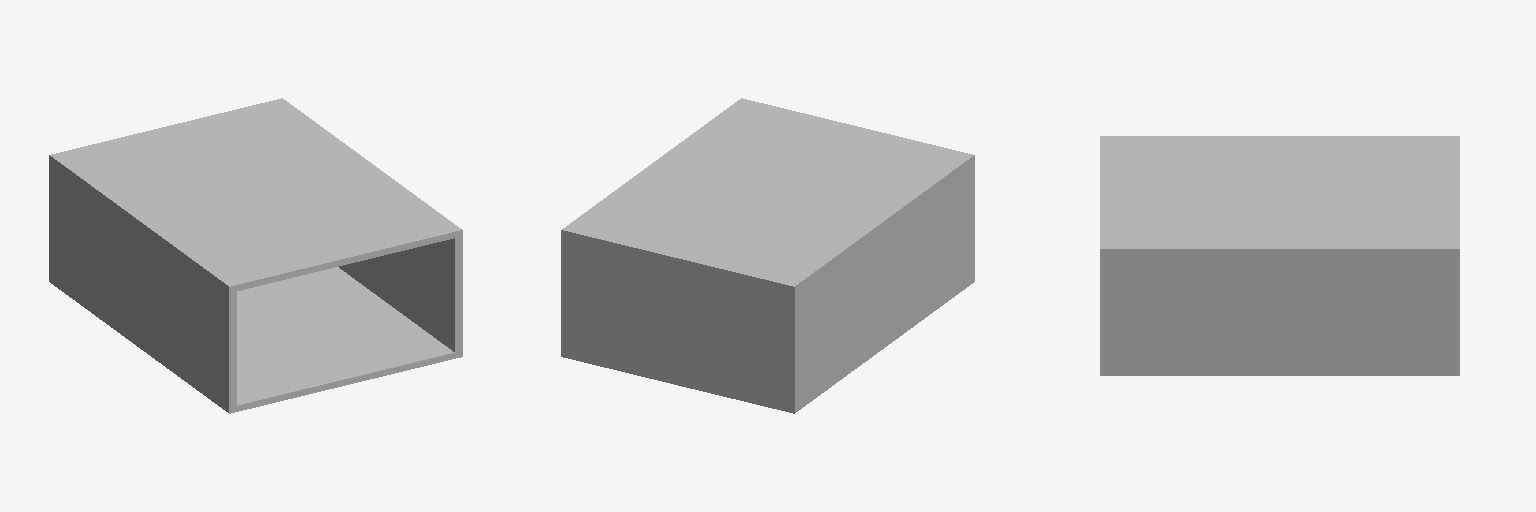
3 renders of one model, left to right at view 1: azimuth 30°, elevation 25°; view 2: azimuth 150°, elevation 25°; view 3: azimuth 270°, elevation 25°, orthographic.
Visible parts, largest first — view 1: object_5, object_4, object_1, object_2, object_3; view 2: object_5, object_3, object_4, object_1; view 3: object_5, object_2, object_1, object_3.
Part boxes in pixels (bbox=[...]): object_5: bbox=[49, 98, 462, 292]; object_4: bbox=[54, 165, 236, 407]; object_1: bbox=[49, 267, 462, 413]; object_2: bbox=[339, 236, 462, 351]; object_3: bbox=[49, 162, 53, 278]; object_5: bbox=[561, 98, 974, 292]; object_3: bbox=[561, 236, 798, 407]; object_4: bbox=[799, 162, 974, 403]; object_1: bbox=[561, 276, 974, 413]; object_5: bbox=[1100, 136, 1459, 255]; object_2: bbox=[1100, 256, 1450, 369]; object_1: bbox=[1100, 370, 1459, 375]; object_3: bbox=[1451, 256, 1459, 369].
Bounding box in the file's own units: 7.97 × 4.15 × 10.66.